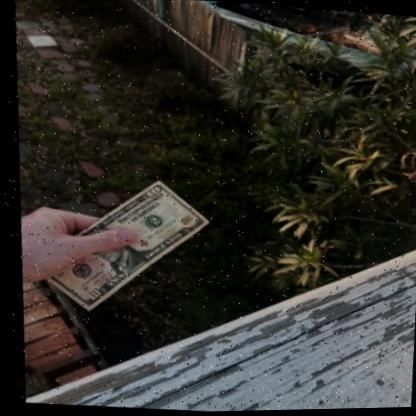ten-front: (27, 180, 206, 311)
